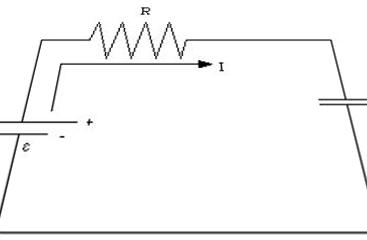resistor: (74, 17, 199, 61)
